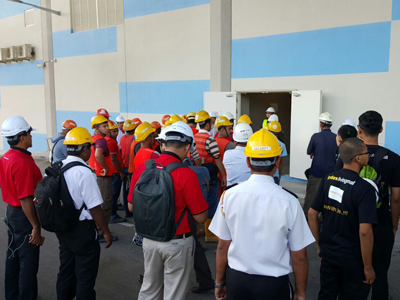No Safety Helmet: (340, 138, 369, 176), (357, 109, 385, 140)
Safety Helmet: (247, 128, 280, 176), (6, 114, 33, 152), (61, 126, 94, 157), (168, 121, 194, 157), (133, 121, 157, 147), (213, 114, 228, 134), (318, 110, 333, 128)
